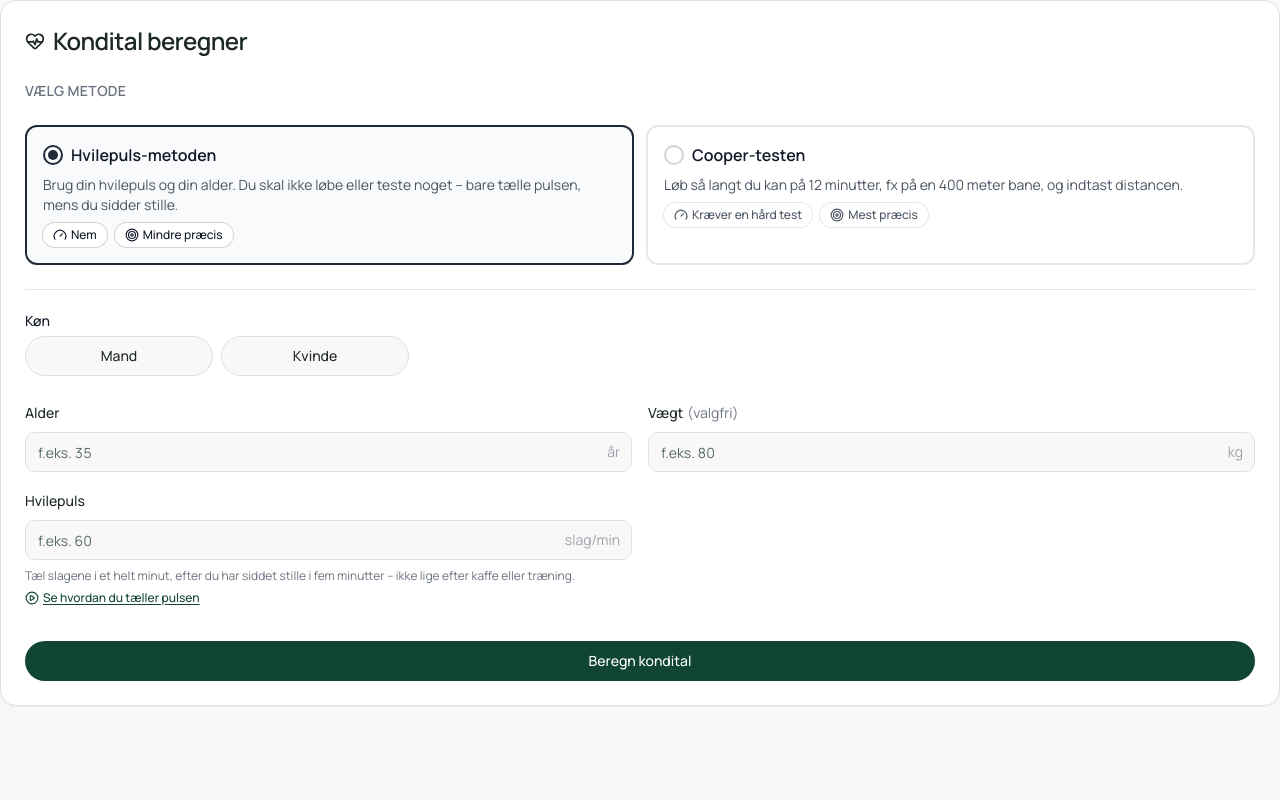
Test: KonditalCalculator › asks for the Cooper distance rather than the resting pulse on that method
Click the radio button labelled "Cooper-testen" at coordinates (950, 195), box [646,125,1255,265]
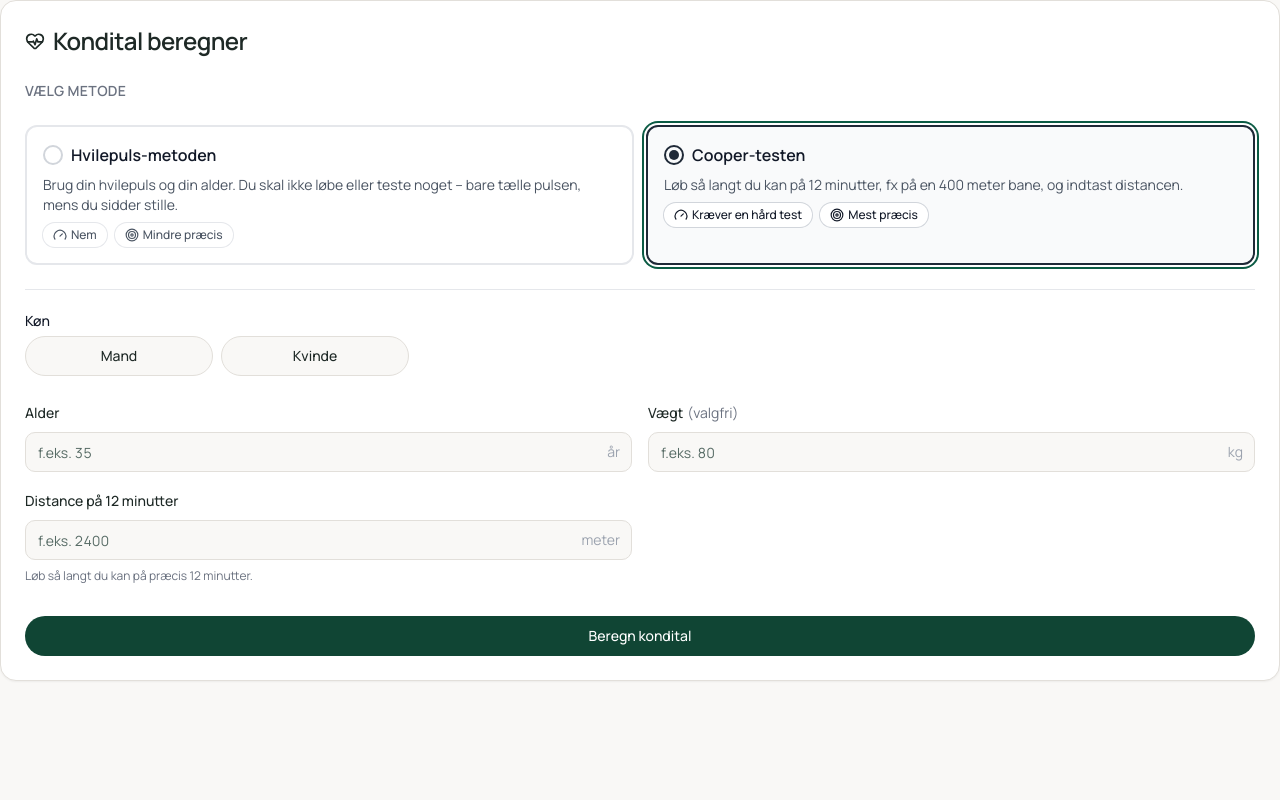
Click the button "Beregn kondital" at coordinates (640, 636), box [25,616,1255,656]
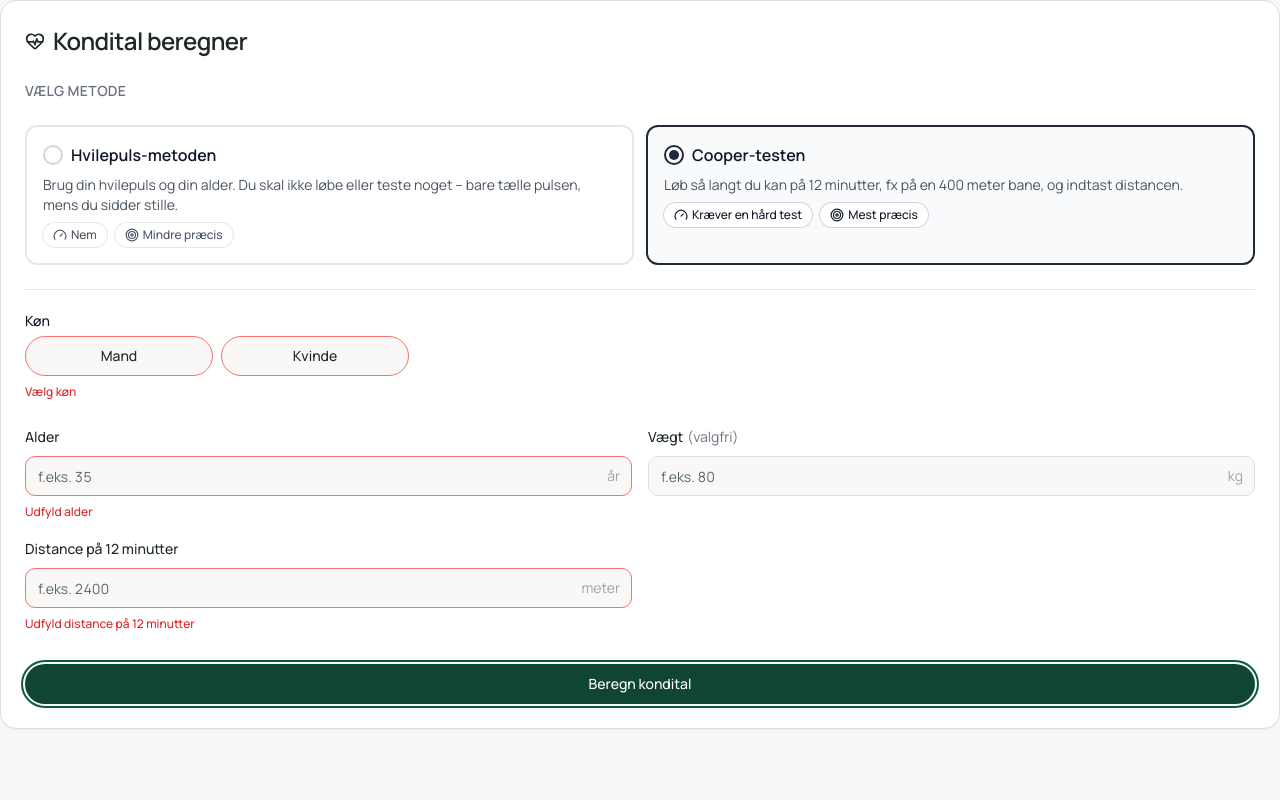
Now the text "Udfyld distance på 12 minutter" is shown, box [25,615,195,632]
